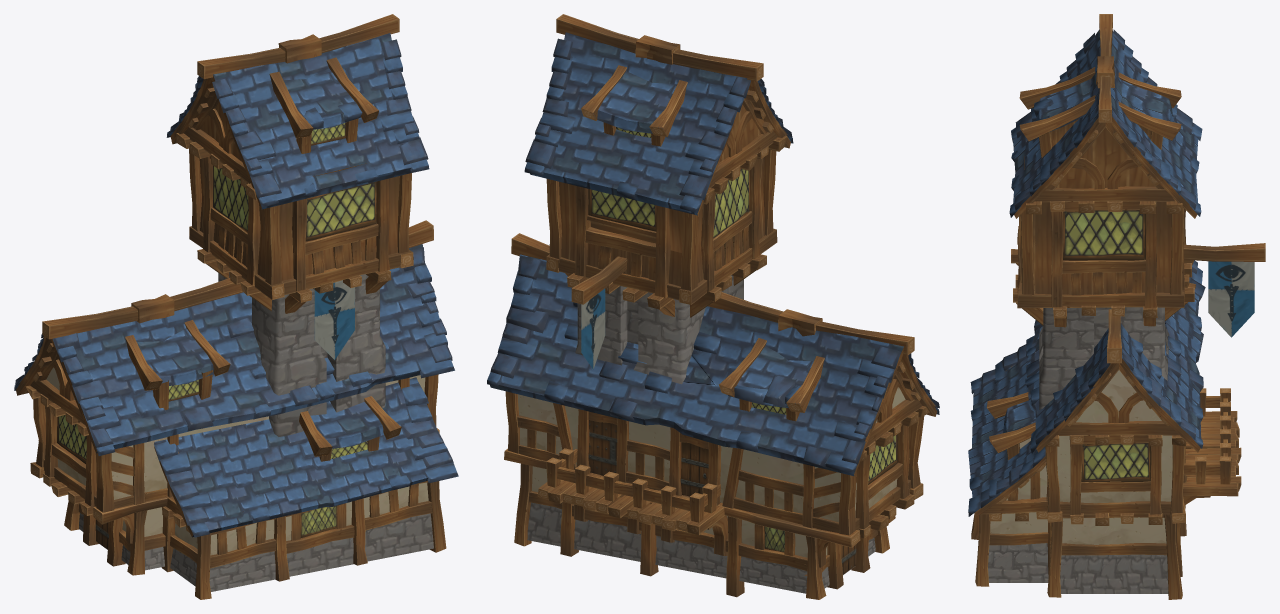
File: Watchtower_Gameready_Export.FBX
The picture shows the model from 3 angles, left to right: view 1: azimuth 30°, elevation 25°; view 2: azimuth 150°, elevation 25°; view 3: azimuth 270°, elevation 25°; orthographic projection. The views are drawn at different scales.
Visible parts, largest first — view 1: WatchTower; view 2: WatchTower; view 3: WatchTower.
Part boxes in pixels (x1=…): WatchTower: x1=14, y1=14, x2=458, y2=599; WatchTower: x1=487, y1=14, x2=939, y2=599; WatchTower: x1=968, y1=14, x2=1265, y2=599.
Size of what is drawn, in the model's own units: 1449 by 967 by 1752.
